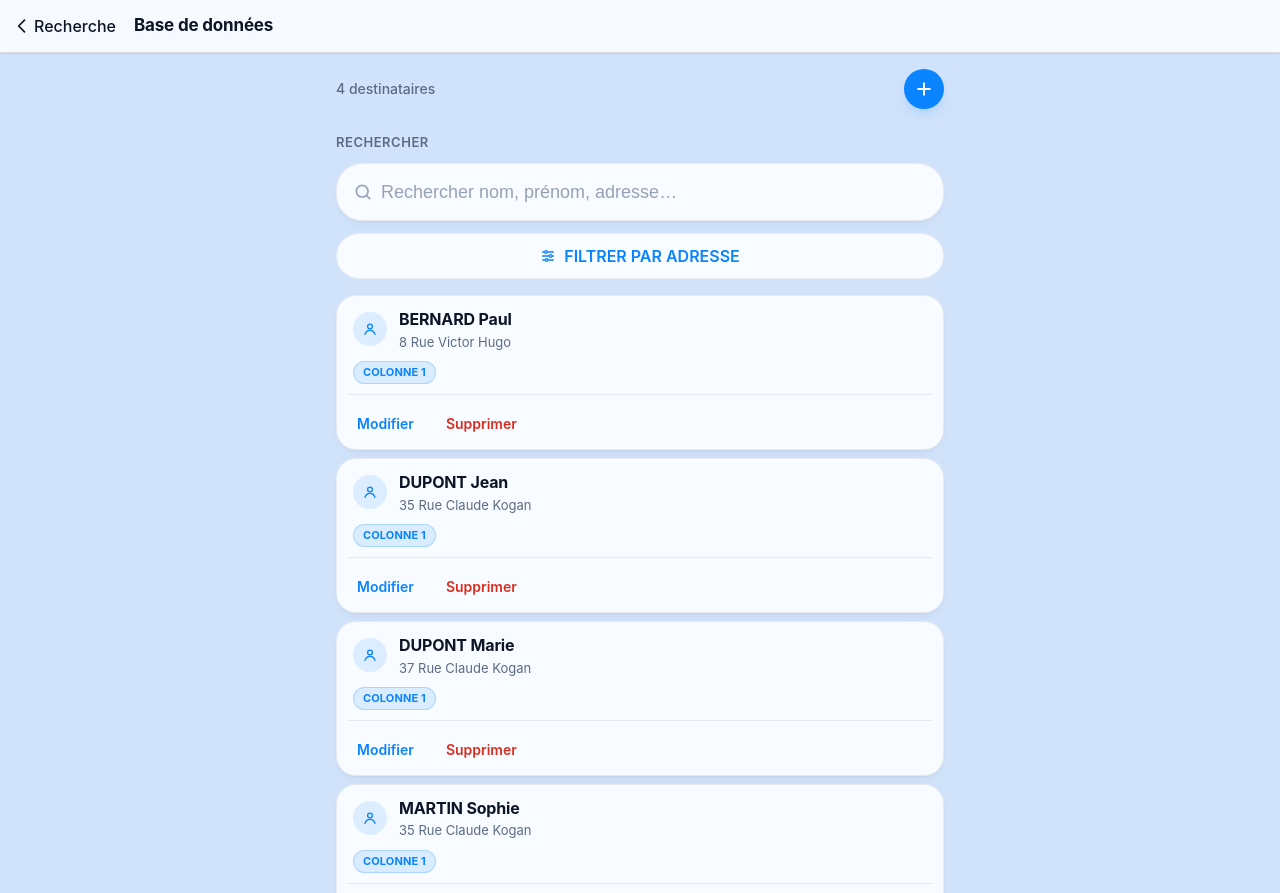
DatabasePage — filtre par adresse complète › 3. sélectionner une seule adresse ne montre que ses destinataires
Click the button "FILTRER PAR ADRESSE". click: (640, 256)
box: [336,233,944,279]
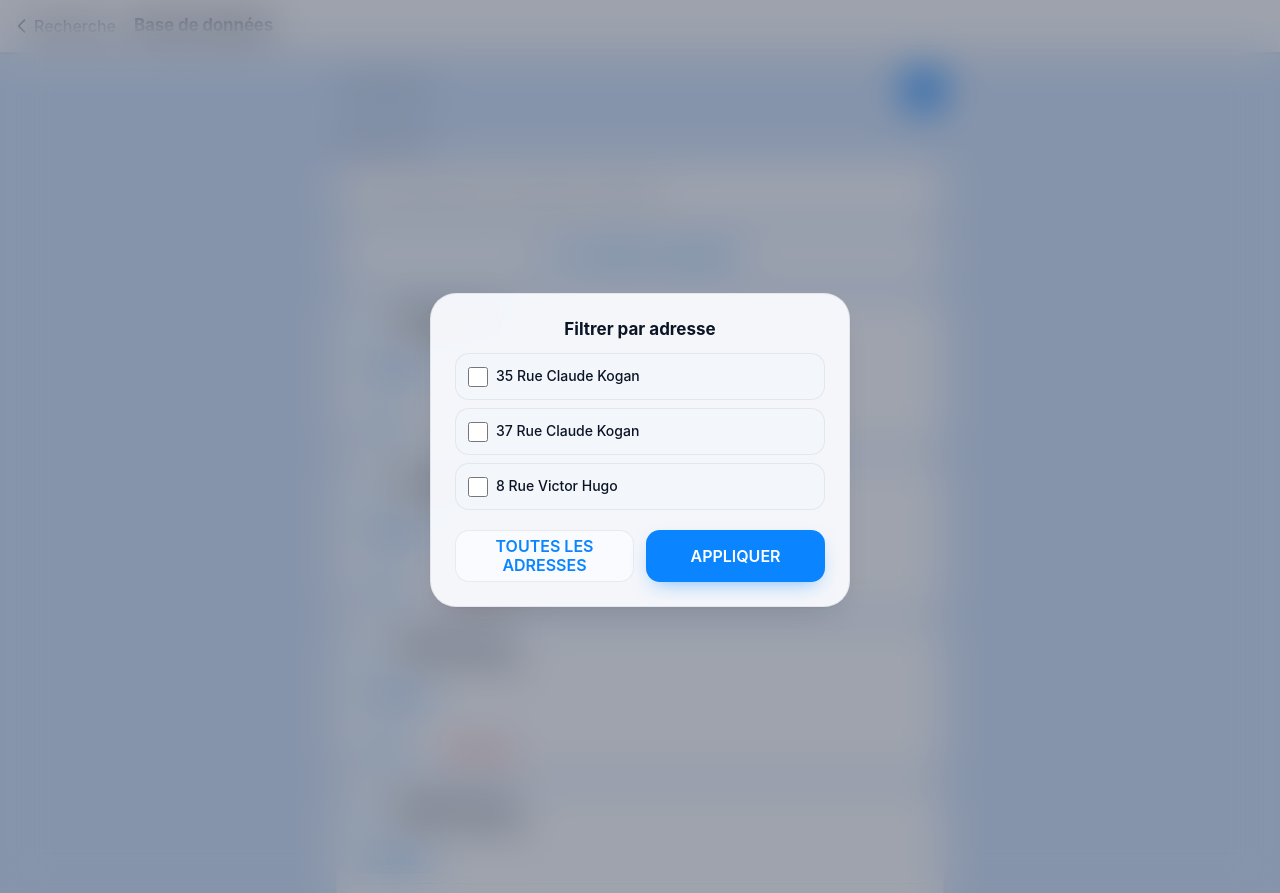
Click the checkbox labelled "35 Rue Claude Kogan". click: (478, 377)
box: [468,367,488,387]
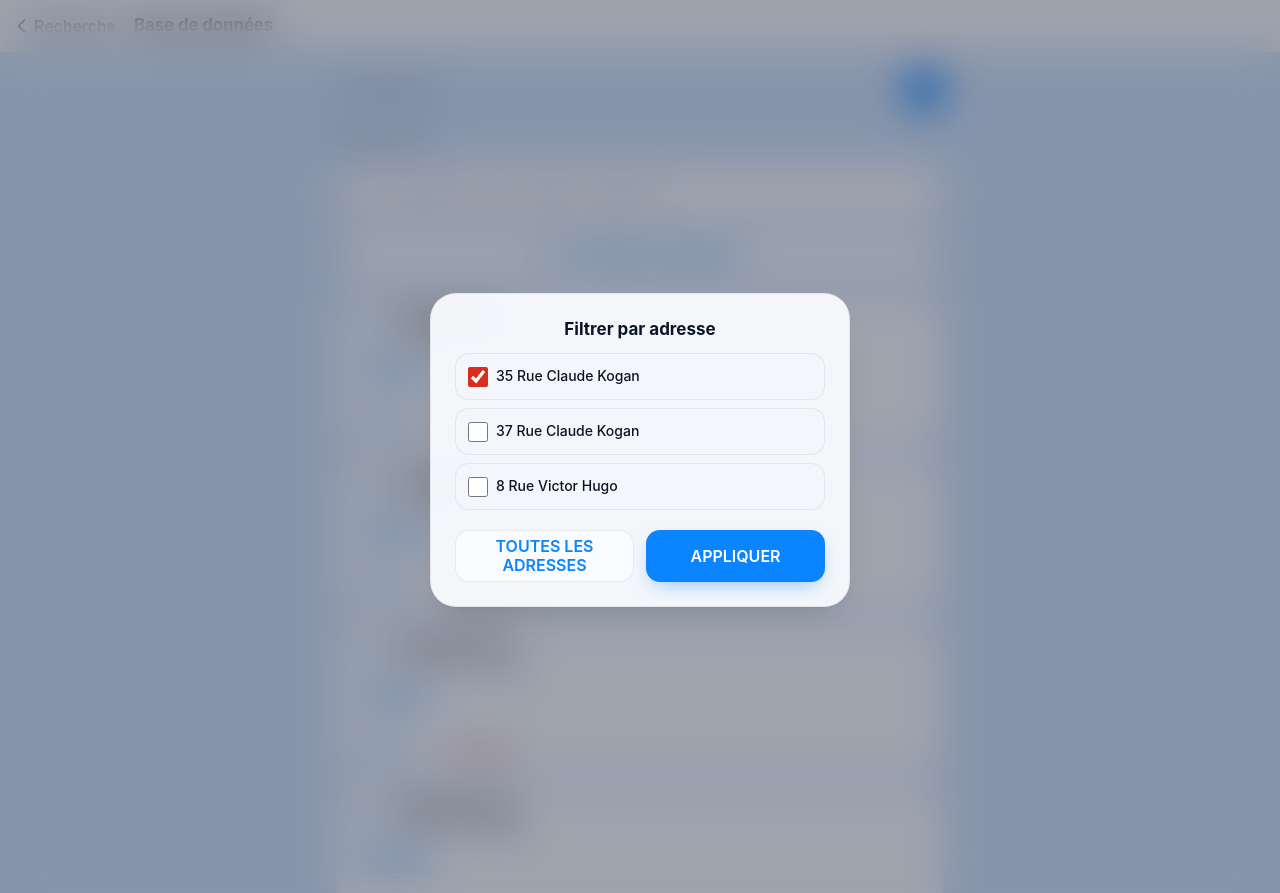
Click the button "APPLIQUER". click: (736, 556)
box: [646,530,825,582]
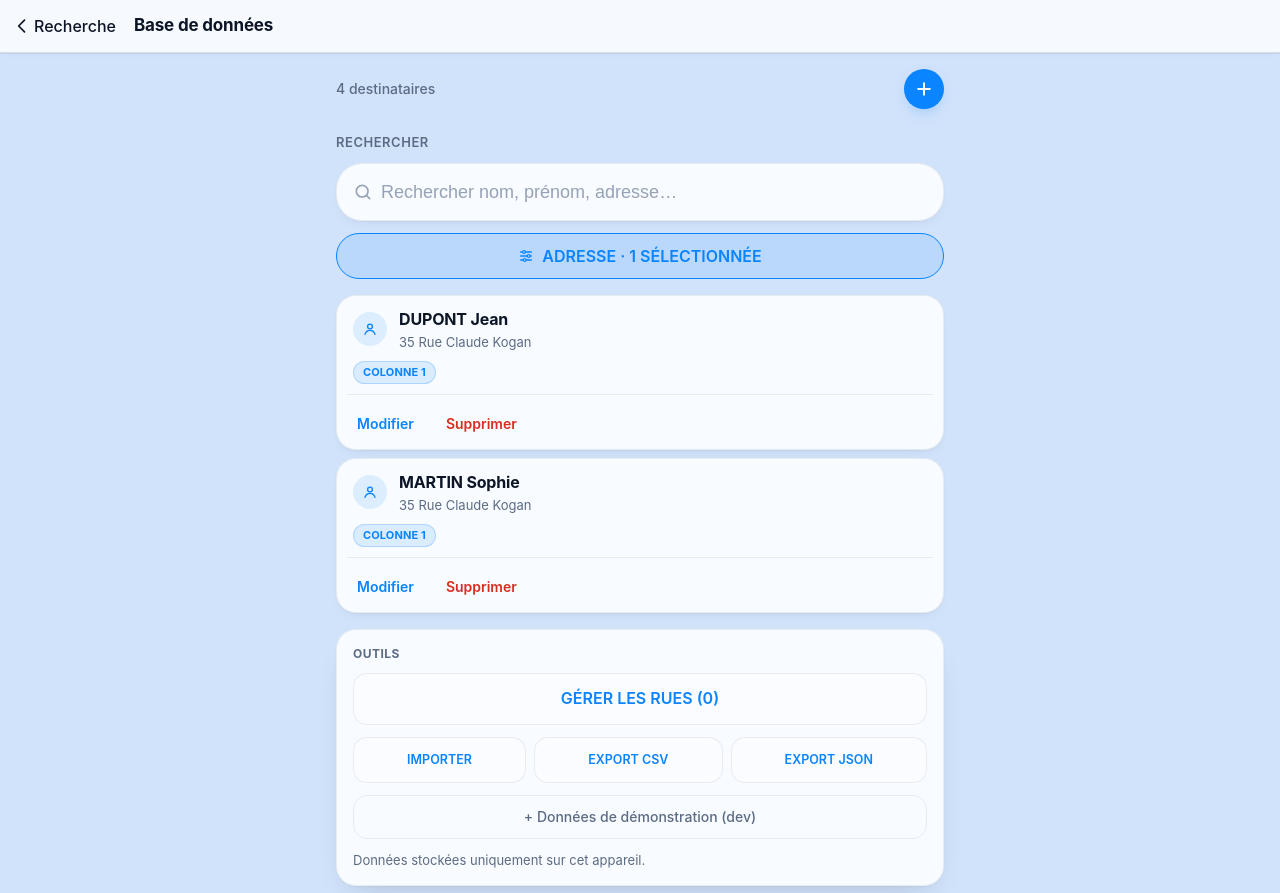
Now the button "ADRESSE · 1 SÉLECTIONNÉE" is shown, box [336,233,944,279]
